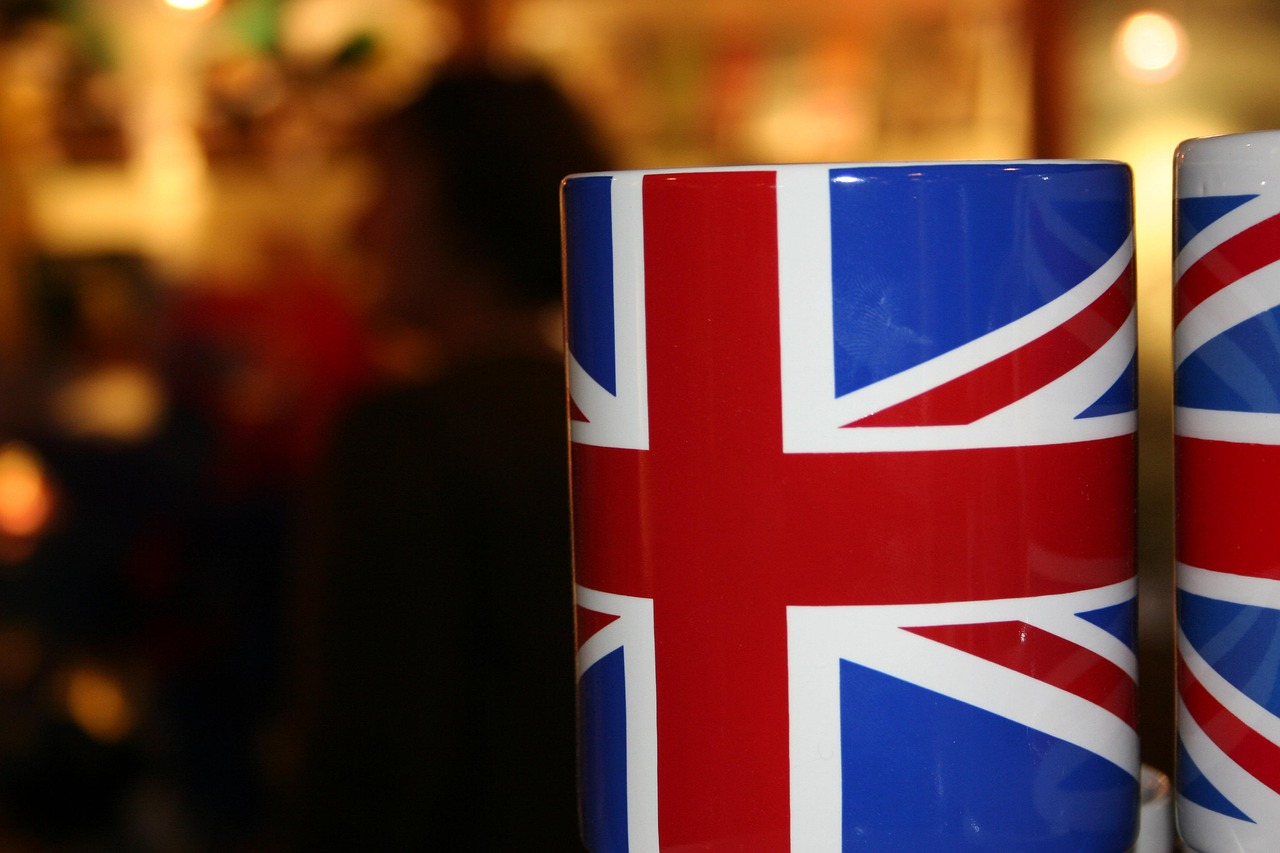mug: (495, 137, 1156, 852)
